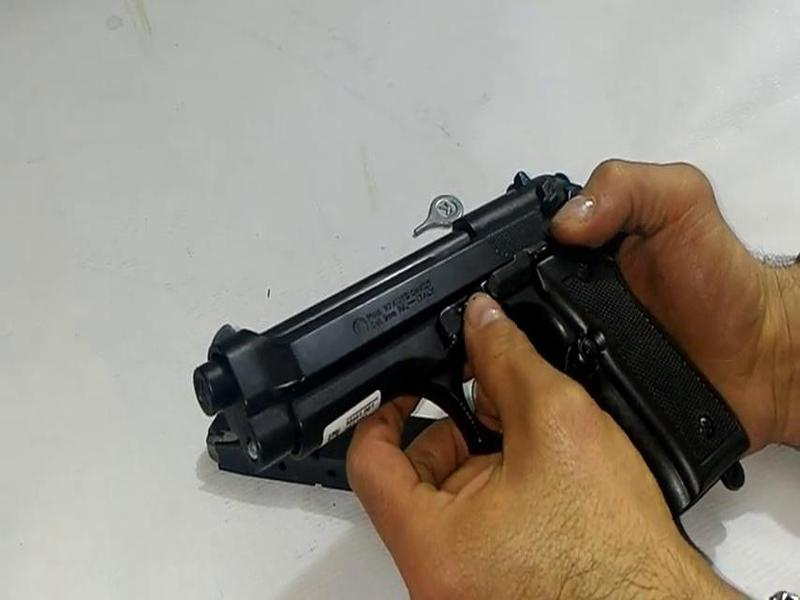Pistola: (162, 148, 756, 521)
